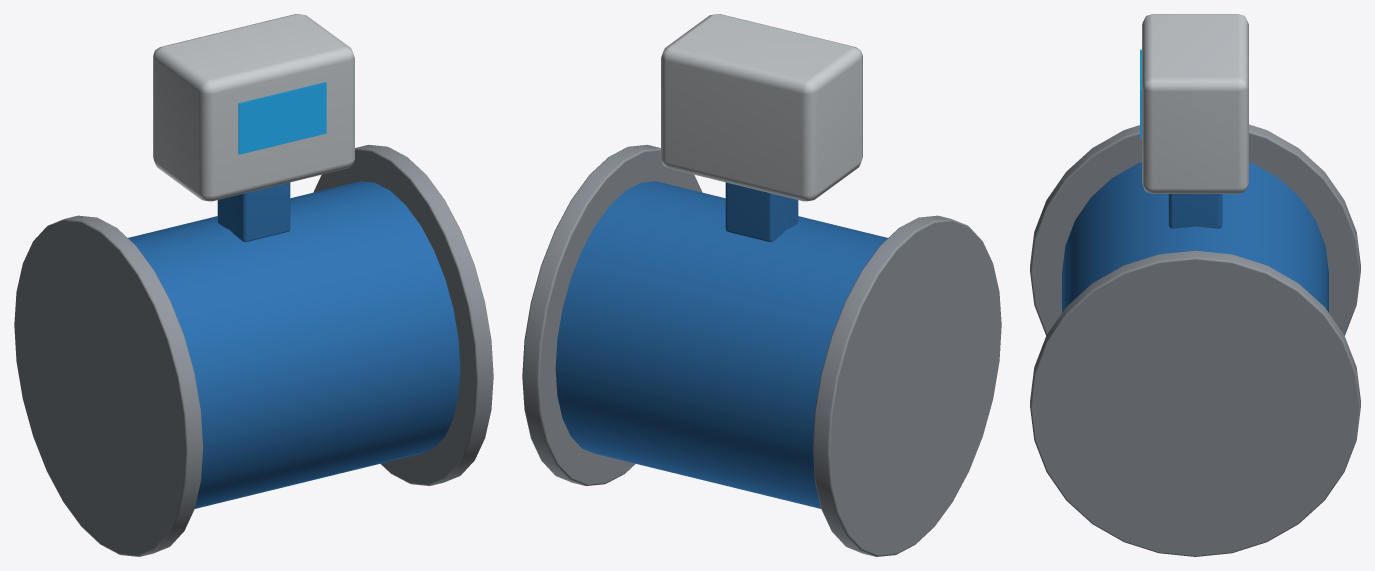
Rendered from dev_fm.e3fb6439.glb.
The picture shows the model from 3 angles, left to right: view 1: azimuth 30°, elevation 25°; view 2: azimuth 150°, elevation 25°; view 3: azimuth 270°, elevation 25°; orthographic projection. The views are drawn at different scales.
Visible parts, largest first — view 1: Cylinder, Cylinder.001, Cube.001, Cylinder.002, Cube.002, Cube; view 2: Cylinder, Cylinder.001, Cube.001, Cylinder.002, Cube; view 3: Cylinder.002, Cube.001, Cylinder, Cylinder.001, Cube.
Boxes of the visible parts, x1=… form: Cylinder: x1=128, y1=181, x2=460, y2=508; Cylinder.001: x1=14, y1=215, x2=203, y2=556; Cube.001: x1=153, y1=14, x2=354, y2=201; Cylinder.002: x1=313, y1=144, x2=493, y2=485; Cube.002: x1=238, y1=82, x2=326, y2=154; Cube: x1=217, y1=182, x2=290, y2=241; Cylinder: x1=555, y1=181, x2=887, y2=508; Cylinder.001: x1=812, y1=215, x2=1001, y2=556; Cube.001: x1=661, y1=14, x2=862, y2=201; Cylinder.002: x1=522, y1=144, x2=702, y2=485; Cube: x1=725, y1=182, x2=798, y2=241; Cylinder.002: x1=1030, y1=250, x2=1360, y2=556; Cube.001: x1=1142, y1=14, x2=1248, y2=193; Cylinder: x1=1062, y1=162, x2=1328, y2=312; Cylinder.001: x1=1030, y1=124, x2=1360, y2=335; Cube: x1=1168, y1=194, x2=1222, y2=228.
Size of the model in its own units: 0.318 by 0.455 by 0.31.
